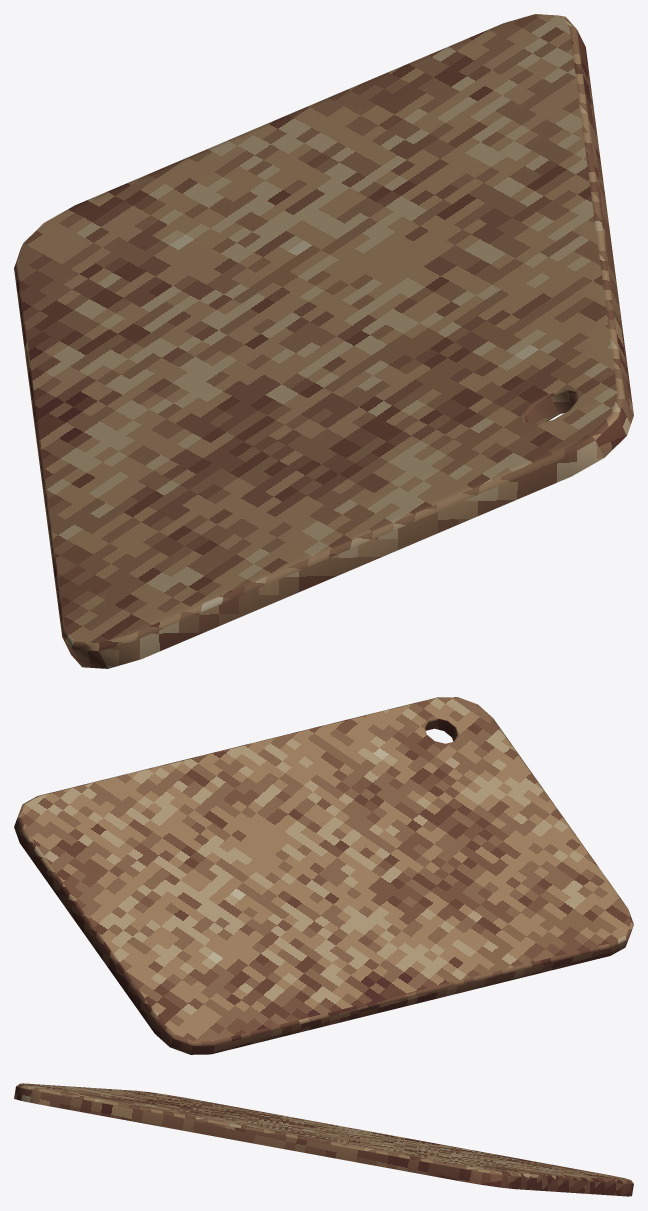
File: cutting_board.glb
3 renders of one model, top to bottom at view 1: azimuth 30°, elevation 25°; view 2: azimuth 150°, elevation 25°; view 3: azimuth 270°, elevation 25°, orthographic. The views are drawn at different scales.
Parts seen in each view (by area): view 1: mesh; view 2: mesh; view 3: mesh.
Boxes of the visible parts, <box> form: mesh: <box>14,14,633,668</box>; mesh: <box>14,697,633,1054</box>; mesh: <box>14,1083,633,1196</box>.
Bounding box in the file's own units: 0.0898 × 0.03 × 0.1084.
1 material, 1 textured.
